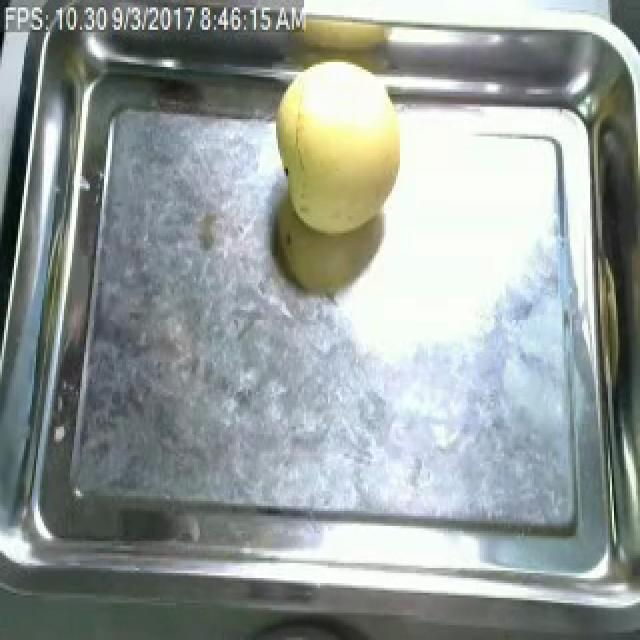Fruit: (264, 52, 412, 243)
